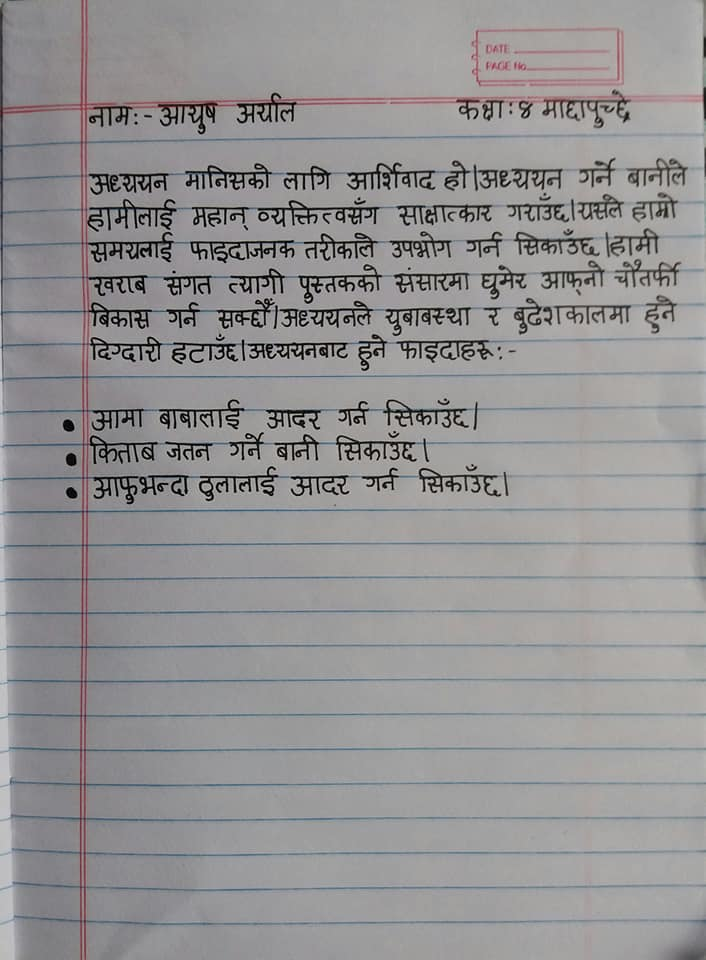text: (258, 196, 385, 229), (510, 302, 633, 333), (88, 470, 191, 507), (540, 89, 637, 128), (187, 233, 298, 264), (297, 262, 383, 302), (278, 298, 375, 331), (332, 429, 419, 465), (90, 198, 179, 233), (156, 397, 245, 432), (342, 161, 436, 194), (381, 396, 472, 430), (196, 465, 279, 501), (152, 95, 221, 138), (393, 335, 495, 364), (184, 161, 276, 193), (410, 465, 502, 497), (381, 304, 472, 336), (233, 88, 302, 130), (394, 200, 495, 228), (389, 265, 472, 299), (85, 232, 176, 263), (477, 162, 569, 192), (512, 229, 601, 259), (245, 338, 352, 362), (85, 168, 173, 197), (85, 333, 165, 364), (302, 230, 378, 262), (613, 258, 686, 291), (503, 191, 571, 226), (540, 259, 608, 294), (85, 433, 158, 465), (169, 332, 237, 366), (386, 231, 456, 264), (213, 298, 276, 333), (623, 156, 692, 187), (87, 301, 156, 332), (189, 201, 251, 233), (222, 267, 288, 296), (479, 263, 529, 301), (88, 270, 152, 299), (84, 405, 148, 434), (160, 267, 219, 298), (287, 470, 354, 497), (628, 190, 682, 222), (263, 404, 323, 432), (280, 162, 332, 194), (610, 227, 662, 258), (641, 294, 679, 336), (274, 431, 322, 464), (451, 95, 507, 122), (83, 103, 133, 133), (575, 156, 619, 190), (576, 192, 624, 222), (165, 436, 216, 464), (354, 333, 389, 372), (163, 299, 204, 332), (461, 233, 508, 260), (225, 433, 268, 462), (335, 398, 374, 429), (441, 157, 470, 196), (361, 467, 402, 494), (479, 303, 504, 329), (515, 99, 538, 126)
